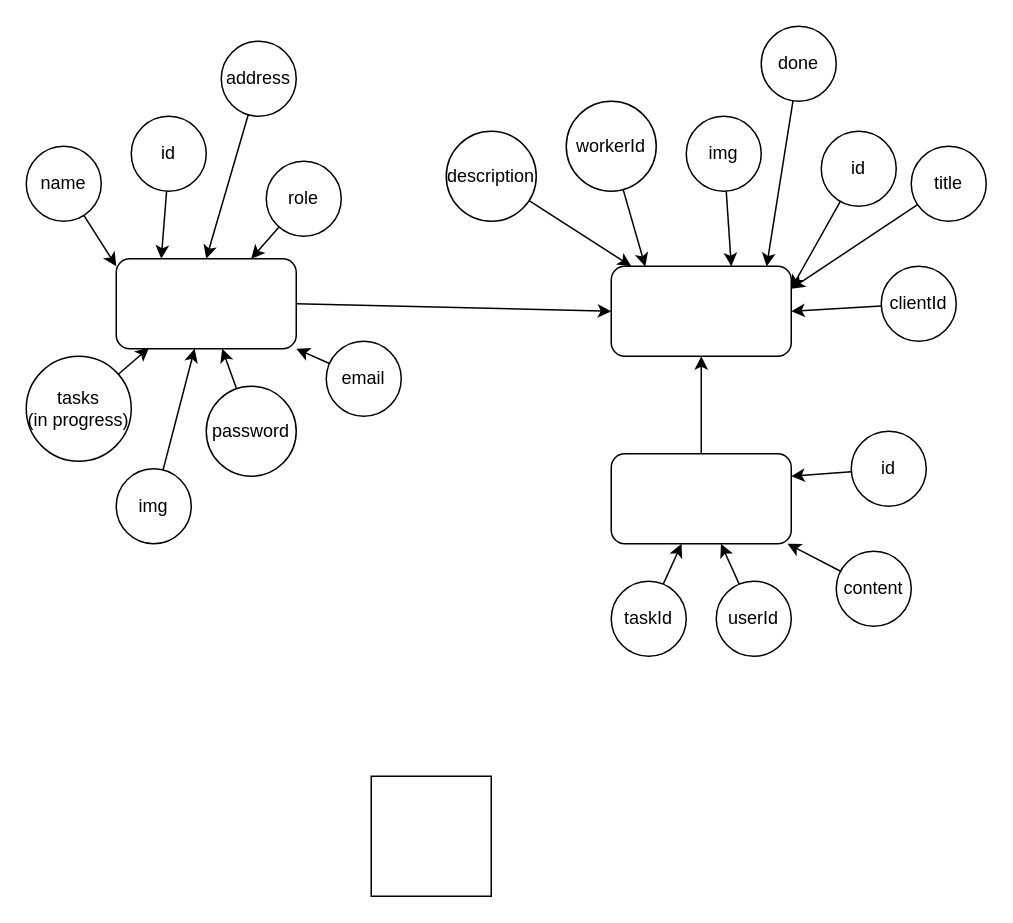
Some shapes in this 1013 by 923 pixel diagram are drawn without their labels. The centre of each missing label's shape, as x and y in pixels:
Chat Function: [430,835]
Messages This is an array of objects on Tasks: [700,498]
Tasks: [700,310]
User: [205,303]
